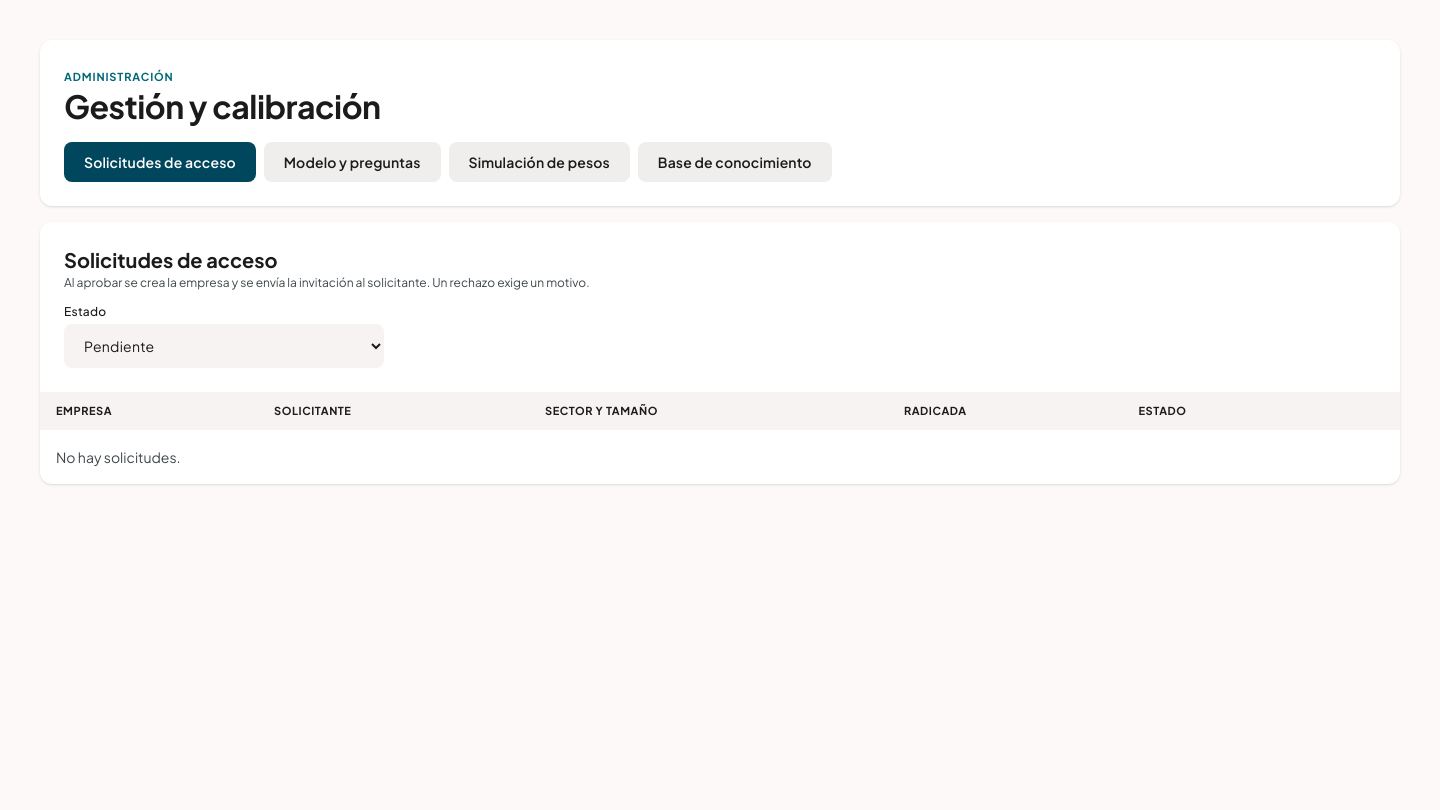
HU-035 · Simular cambio de pesos › CA-01 envía los pesos propuestos y muestra original frente a simulado
Click the tab "Simulación de pesos" at (539, 162), box [448, 142, 630, 182]
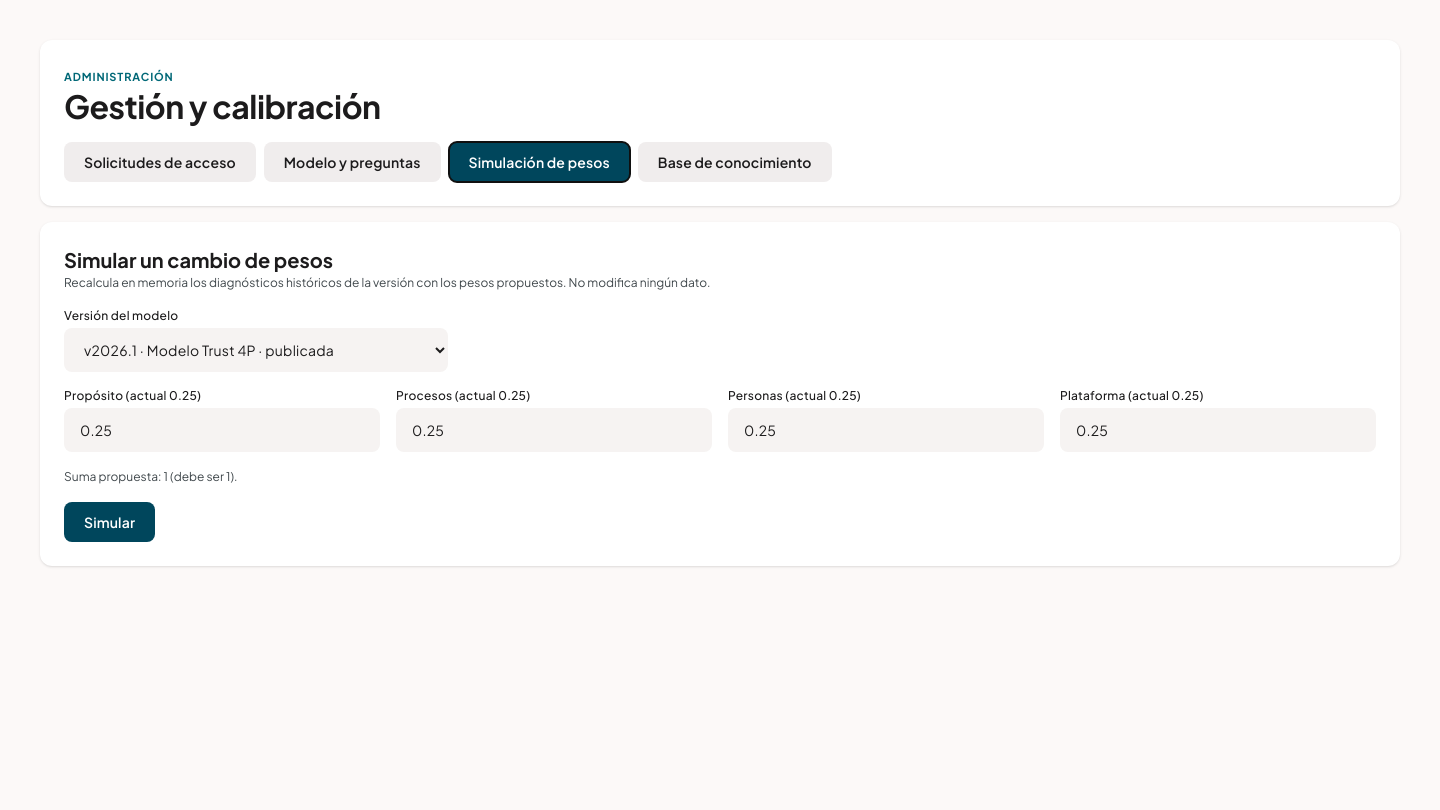
Check: the number field labelled "Propósito (actual 0.25)" is shown
Replace the text in the number field labelled "Propósito (actual 0.25)" with "0.4" at (222, 430), box [64, 408, 380, 452]
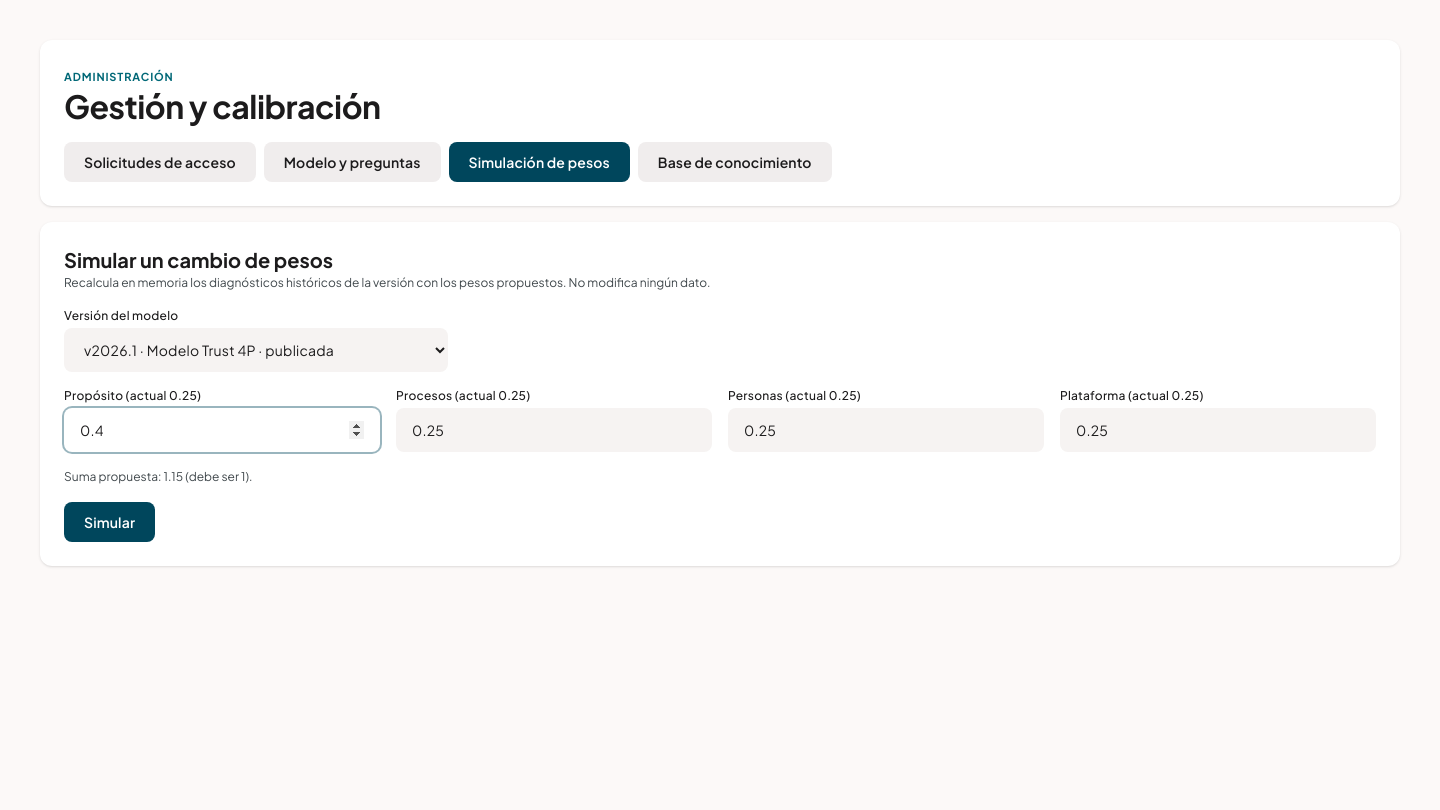
Replace the text in the number field labelled "Plataforma (actual 0.25)" with "0.1" at (1218, 430), box [1060, 408, 1376, 452]
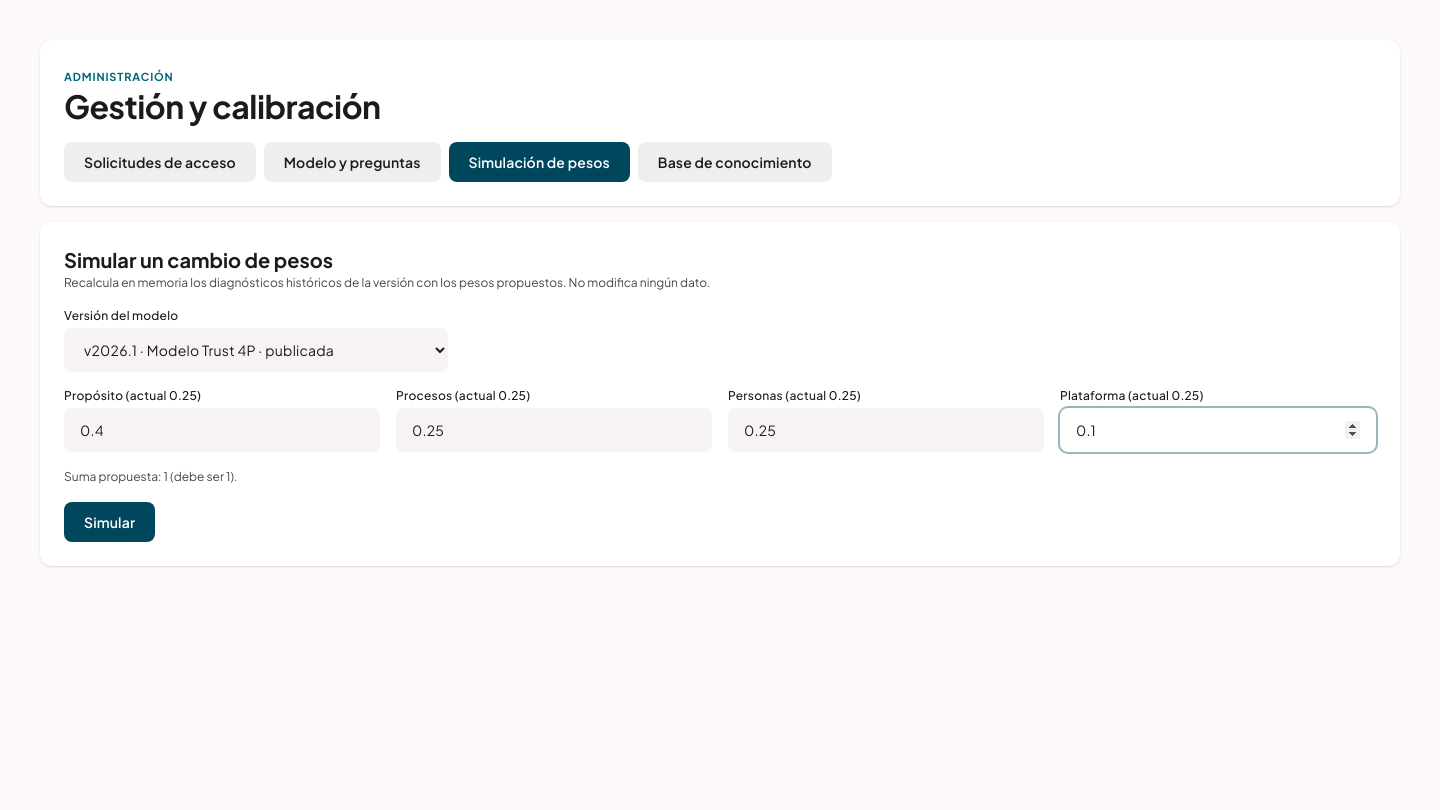
Click the button "Simular" at (110, 522), box [64, 502, 155, 542]
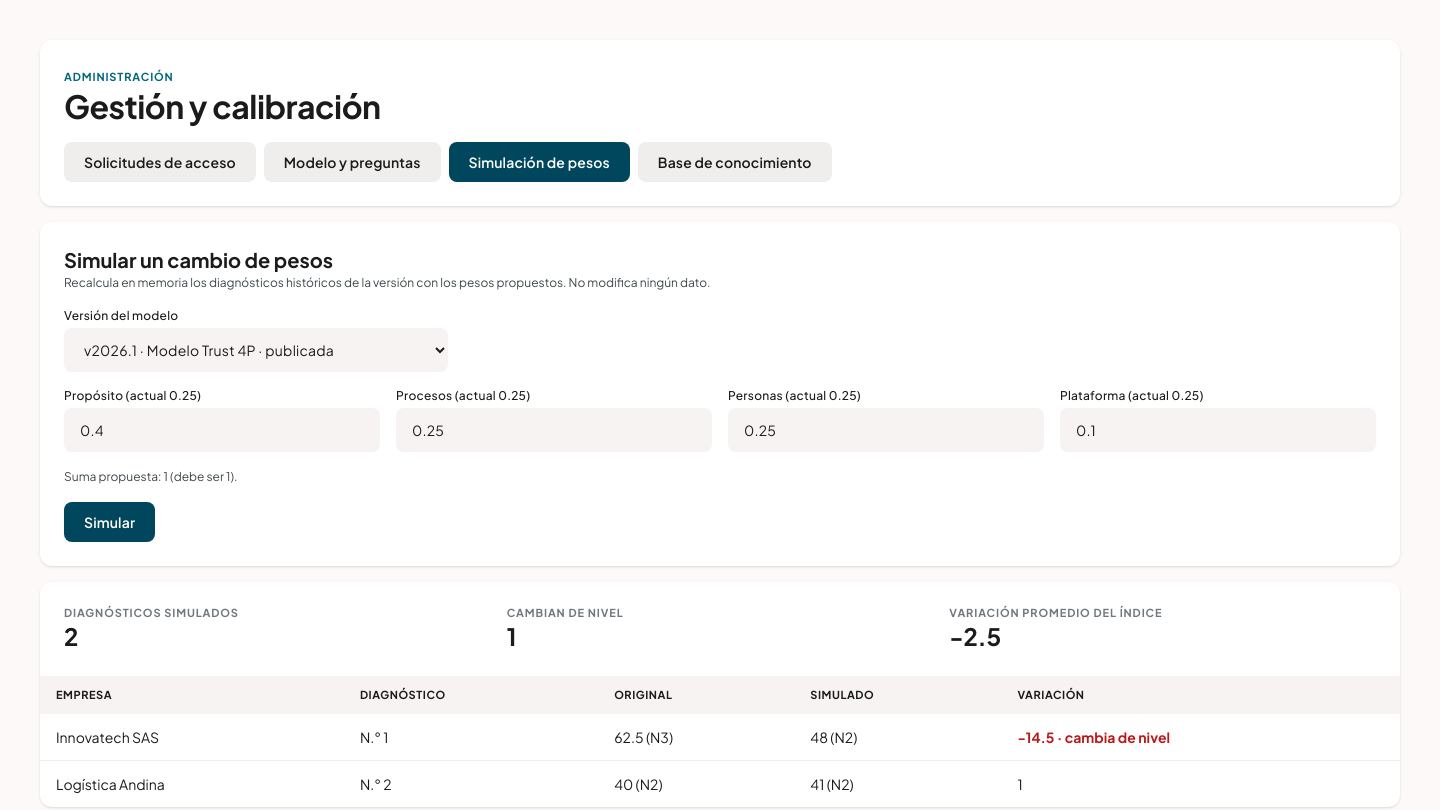
Check: the text "62.5 (N3)" is shown, box [598, 714, 794, 760]
Check: the text "48 (N2)" is shown, box [794, 714, 1001, 760]
Check: the text "-14.5 · cambia de nivel" is shown, box [1001, 714, 1400, 760]
